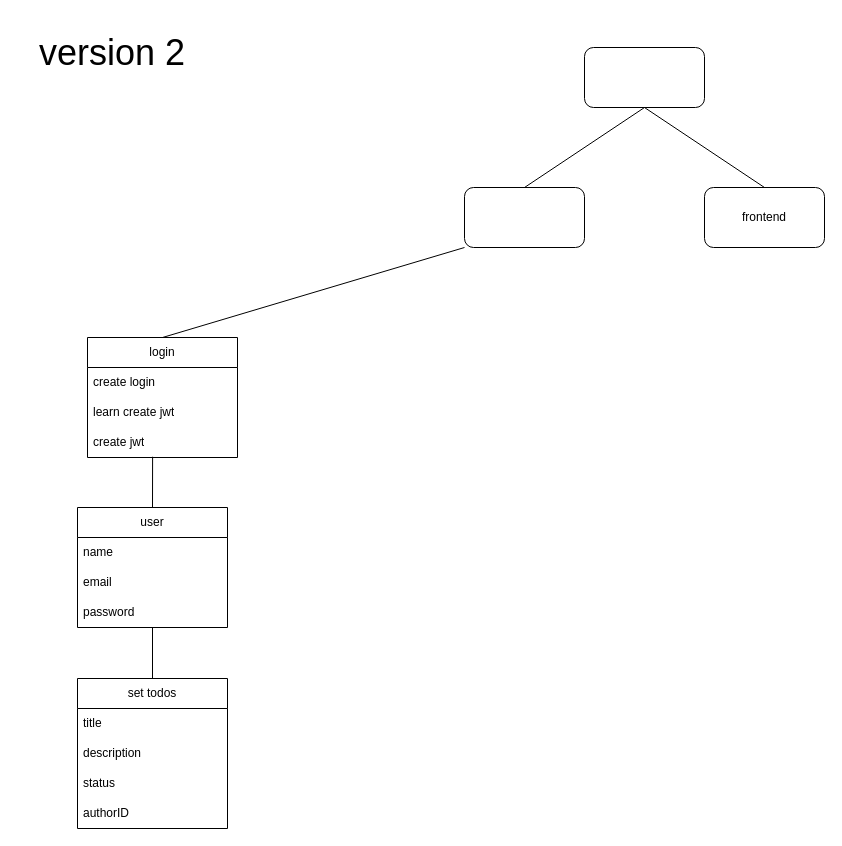
The diagram is 842 pixels wide and 846 high, and some of its shapes have lost their labels. Here are the shapes that lost their labels. From the top down, the centre of each, then its label:
the point at 644,77: full stack app
the point at 524,217: backend
